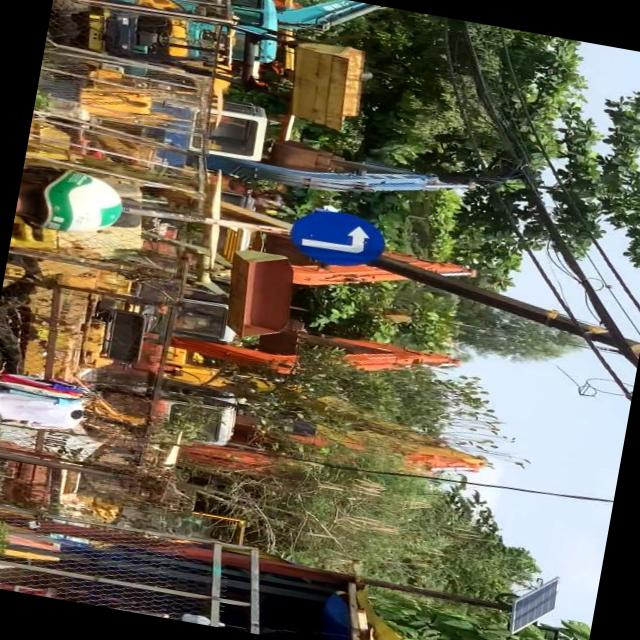R-301e: (286, 204, 386, 272)
